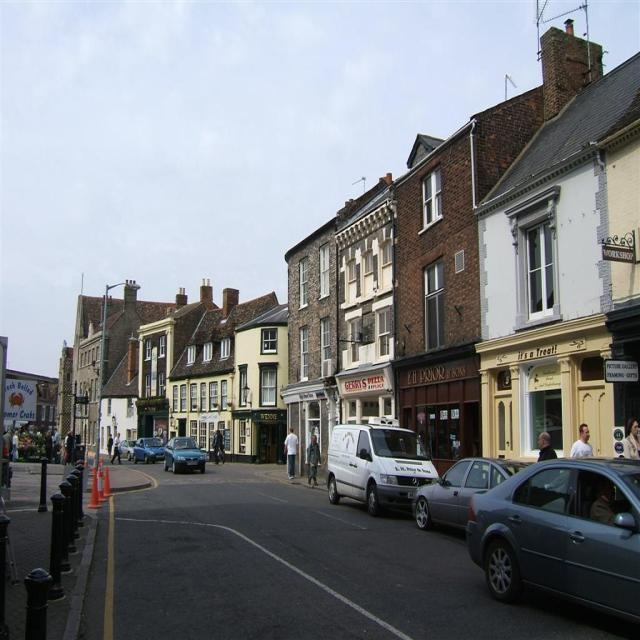car: (162, 436, 207, 472), (133, 434, 166, 463)
